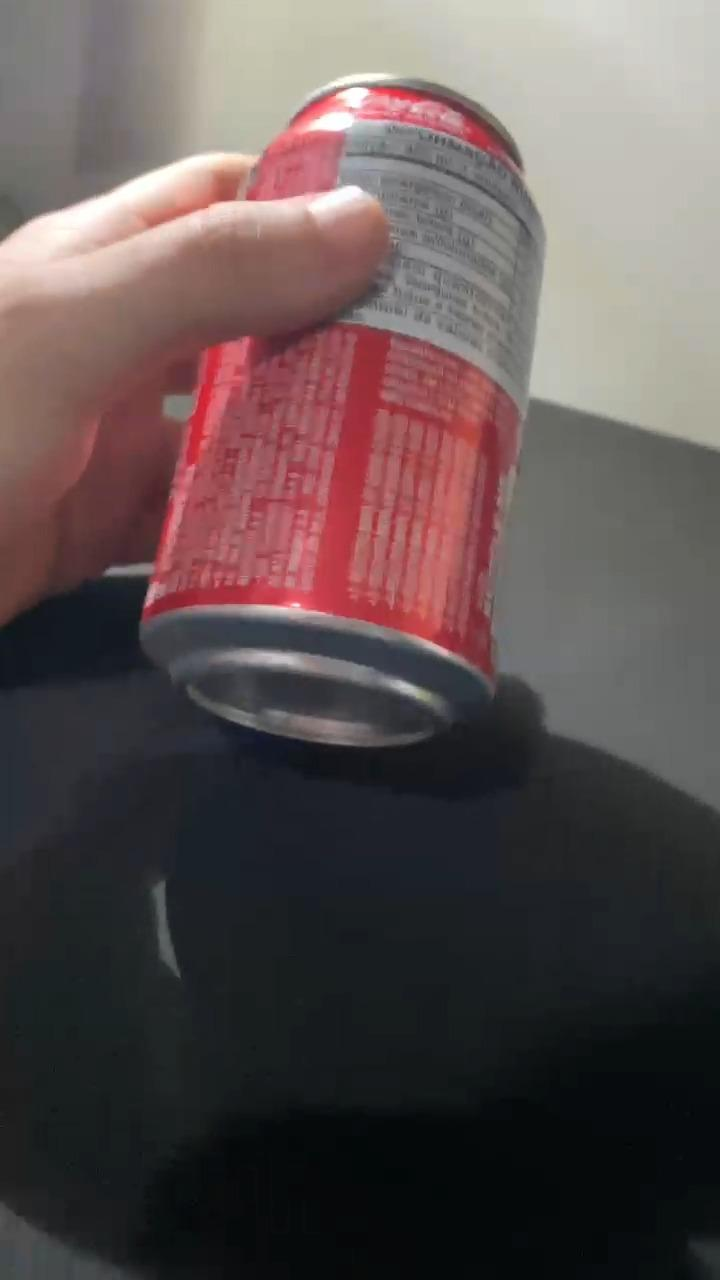coke: (139, 80, 546, 753)
